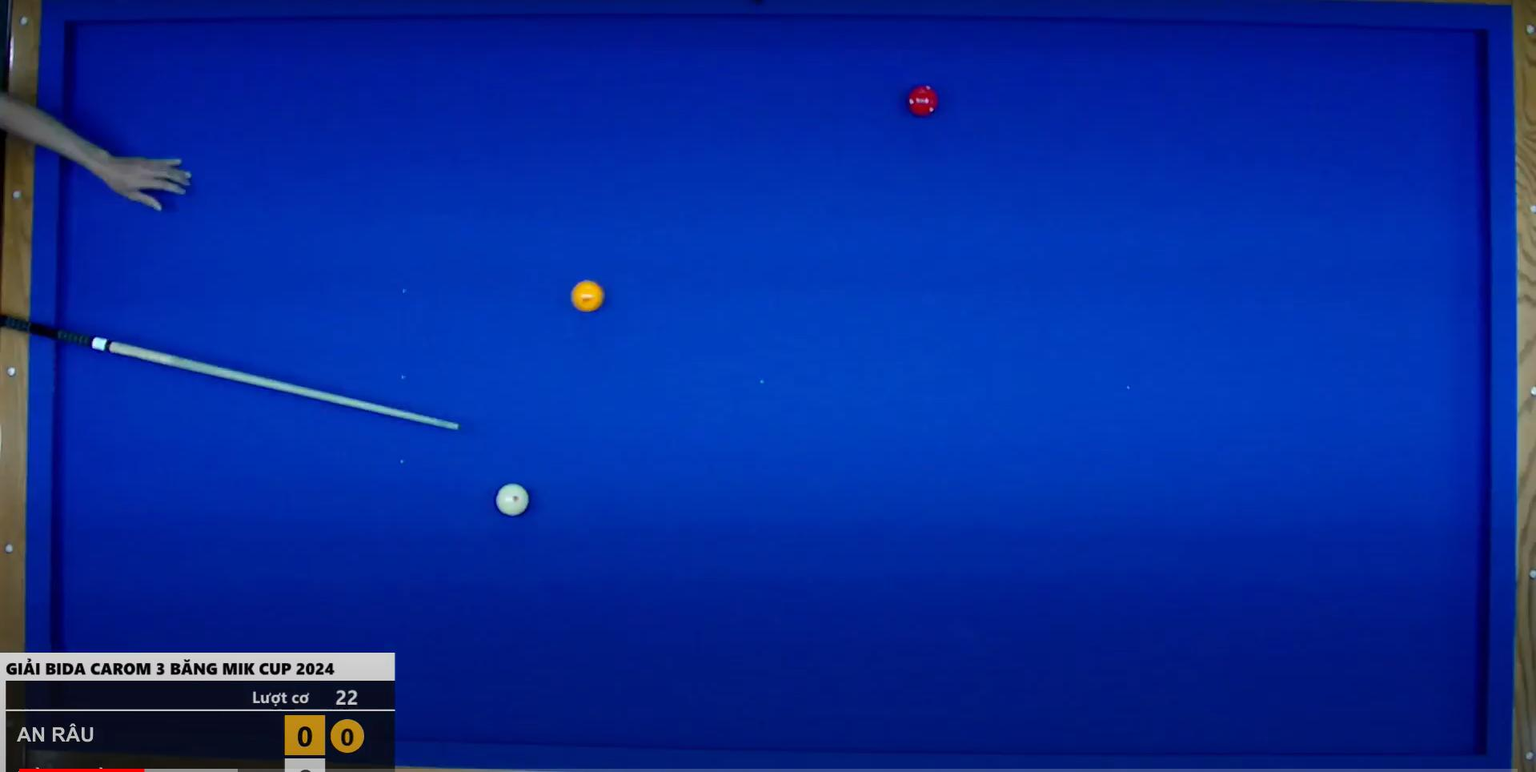red ball: (904, 79, 946, 128)
white ball: (491, 477, 531, 523)
yellow ball: (566, 275, 612, 324)
